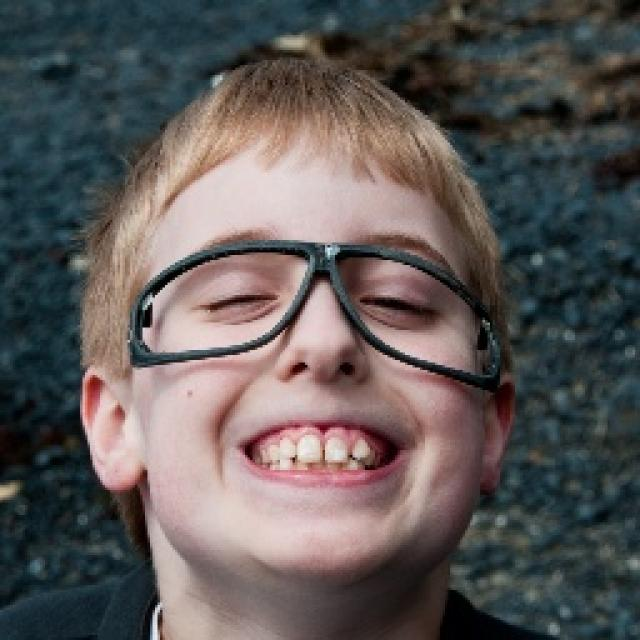earlobe: (76, 367, 148, 495), (481, 371, 522, 495)
